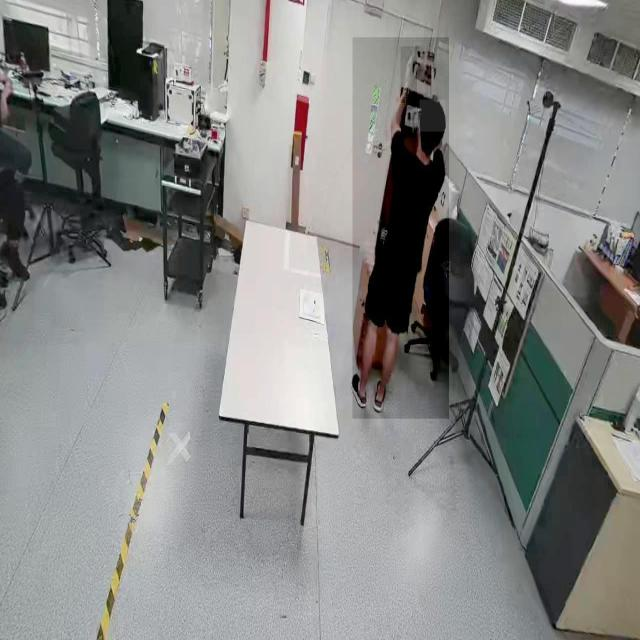hand_glove: (400, 46, 418, 104)
head_nohelmet: (420, 100, 446, 132)
person: (352, 38, 450, 420)
shoes: (349, 369, 368, 411), (372, 376, 388, 419)
